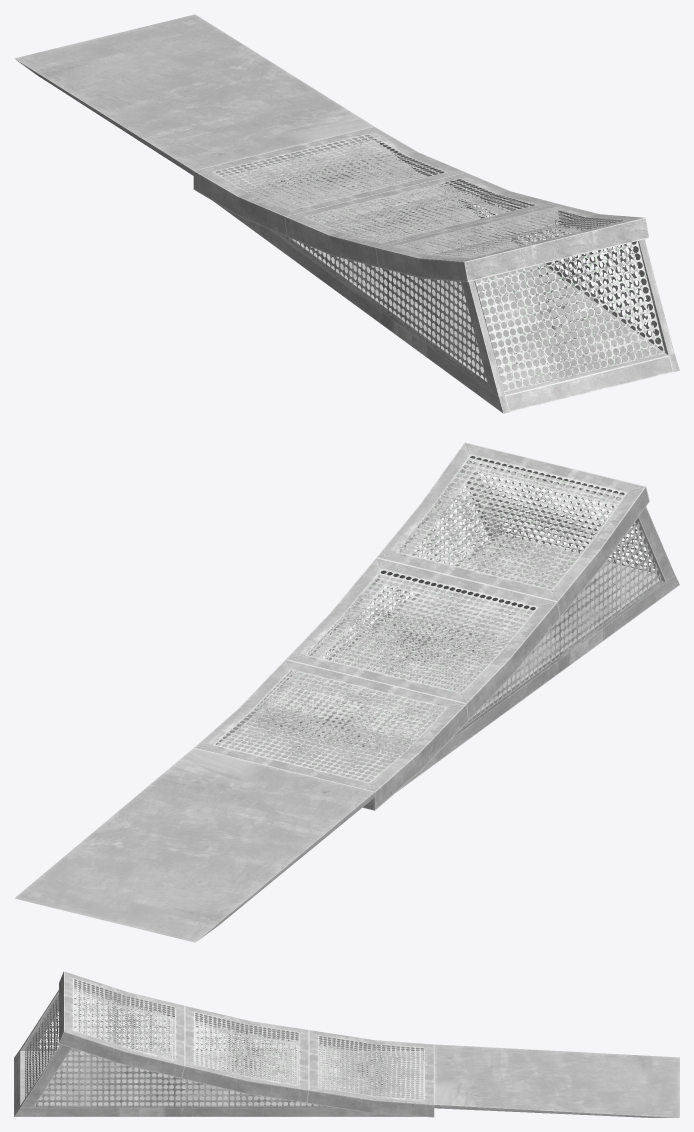
File: prop_ramp.fbx
The picture shows the model from 3 angles, top to bottom: view 1: azimuth 30°, elevation 25°; view 2: azimuth 150°, elevation 25°; view 3: azimuth 270°, elevation 25°; orthographic projection. The views are drawn at different scales.
Parts seen in each view (by area): view 1: prop_ramp; view 2: prop_ramp; view 3: prop_ramp.
Boxes of the visible parts, left/top/right/bottom form: prop_ramp: left=14, top=14, right=679, bottom=413; prop_ramp: left=14, top=442, right=679, bottom=942; prop_ramp: left=14, top=971, right=679, bottom=1117.
Size of the model in its own units: 1599 by 1064 by 7441.
